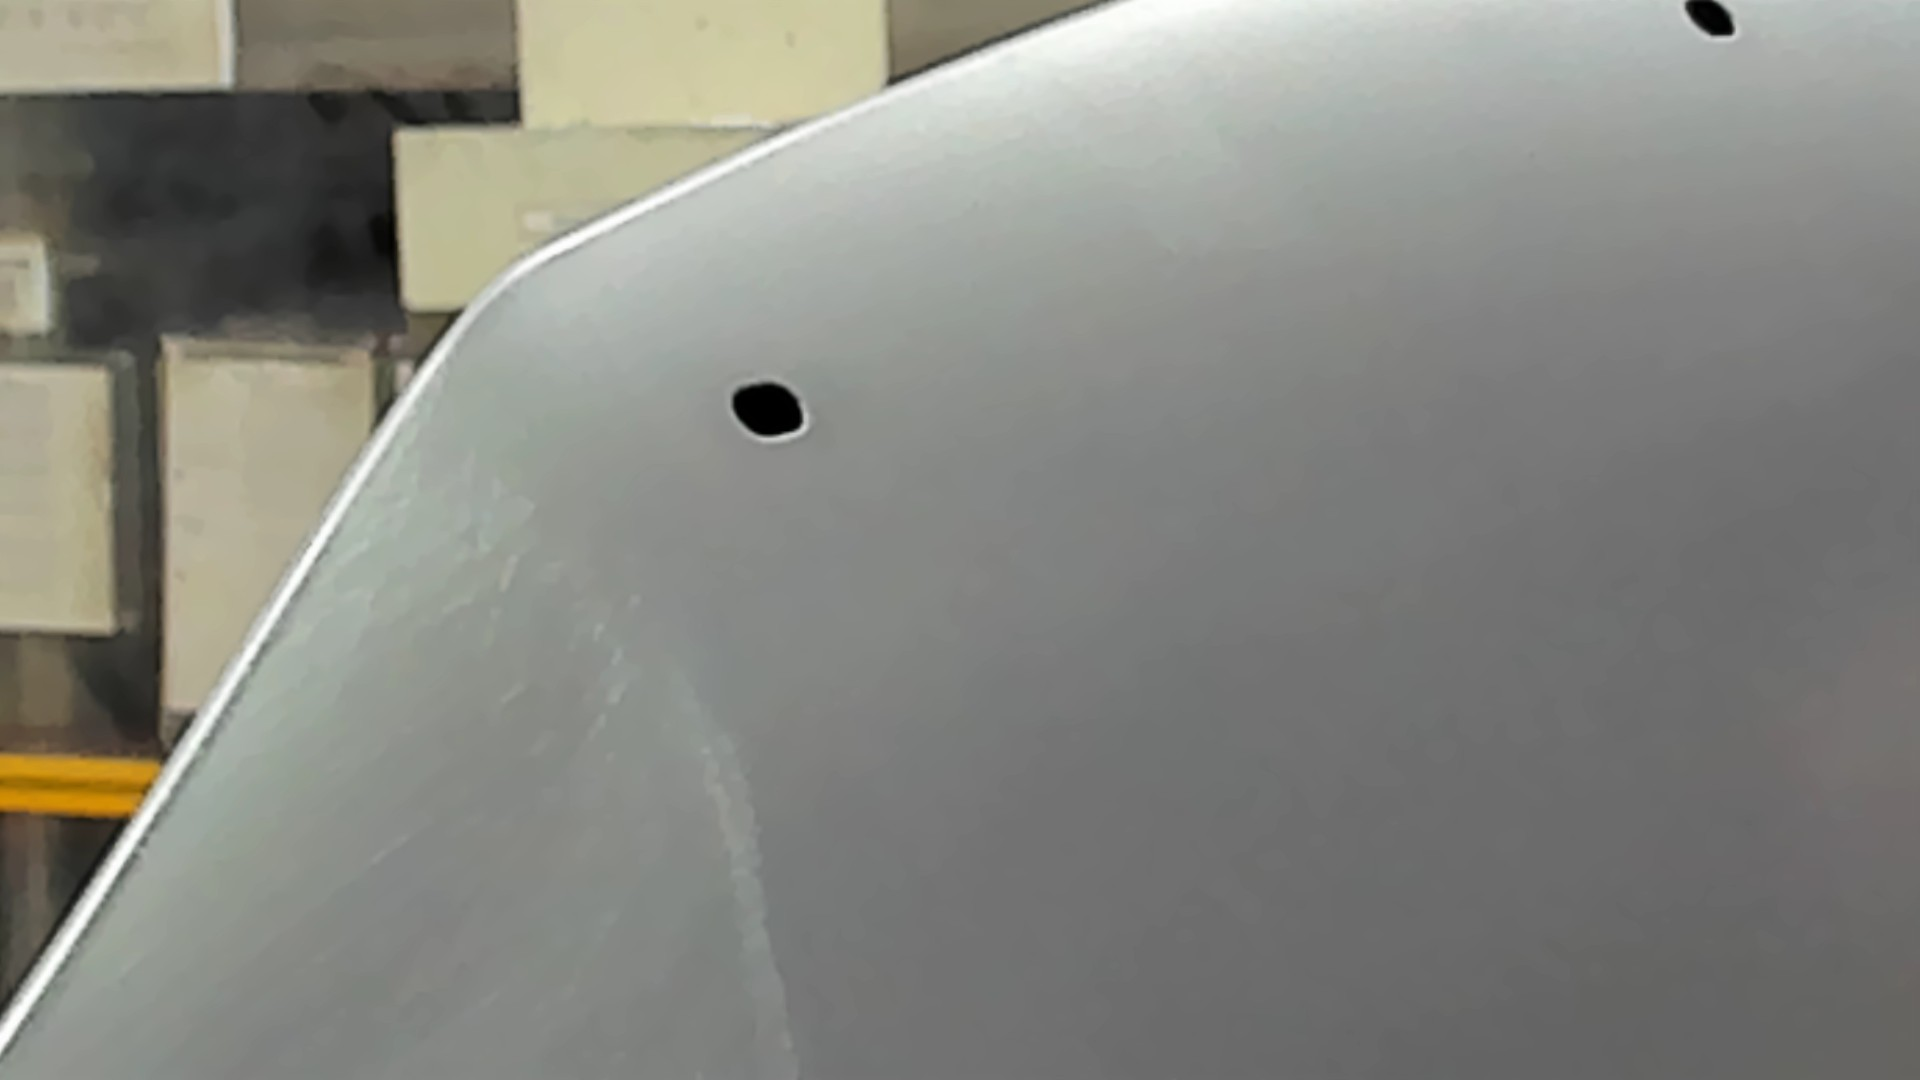amorfo: (728, 378, 810, 440), (1680, 1, 1745, 44)
